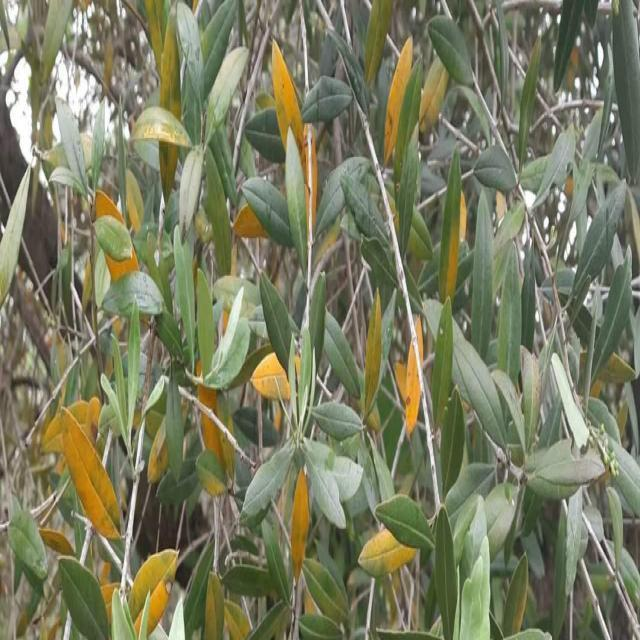OlivePeacockSpot: (64, 410, 120, 540), (272, 40, 306, 174), (130, 549, 180, 636), (384, 38, 412, 164), (362, 286, 382, 424), (358, 529, 414, 576), (290, 468, 310, 583), (132, 108, 190, 145), (406, 338, 421, 437)
